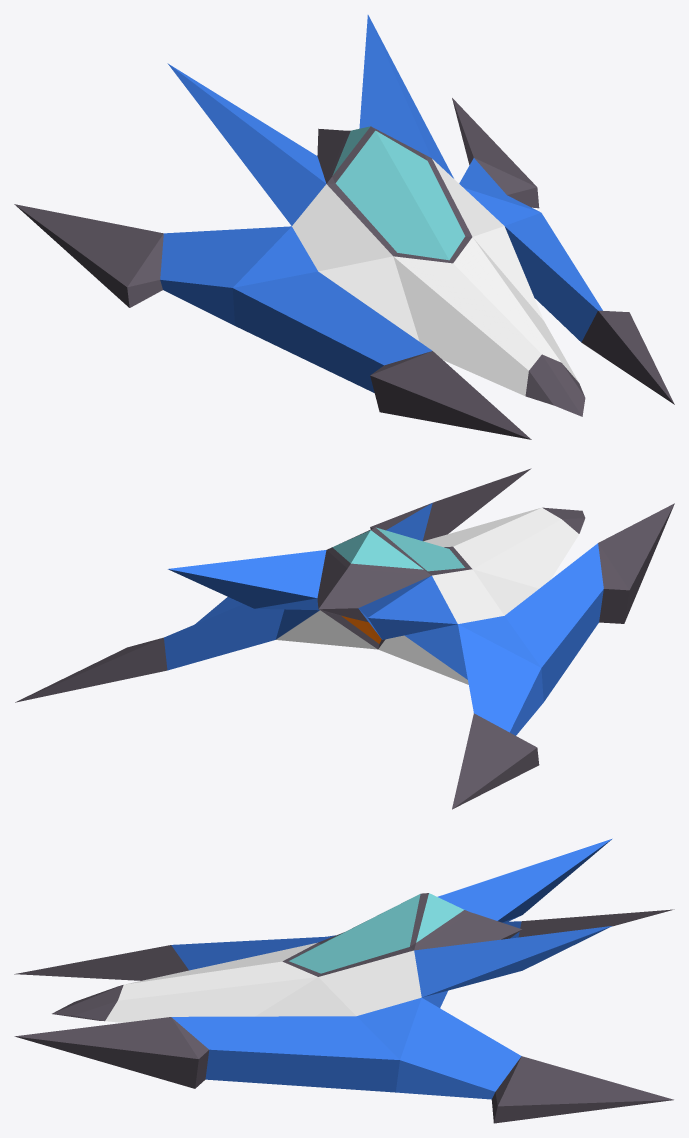
File: Ship.fbx
3 views of the same model, one above another, from view 1: azimuth 30°, elevation 25°; view 2: azimuth 150°, elevation 25°; view 3: azimuth 270°, elevation 25° (orthographic). The views are drawn at different scales.
Visible parts, largest first — view 1: OriginalShip; view 2: OriginalShip; view 3: OriginalShip.
Part boxes in pixels (box(x1,y1,x2,y2)): OriginalShip: box(14, 15, 674, 439); OriginalShip: box(15, 468, 674, 809); OriginalShip: box(14, 838, 674, 1123).
Size of the model in its own units: 4.12 by 1.55 by 6.04.
